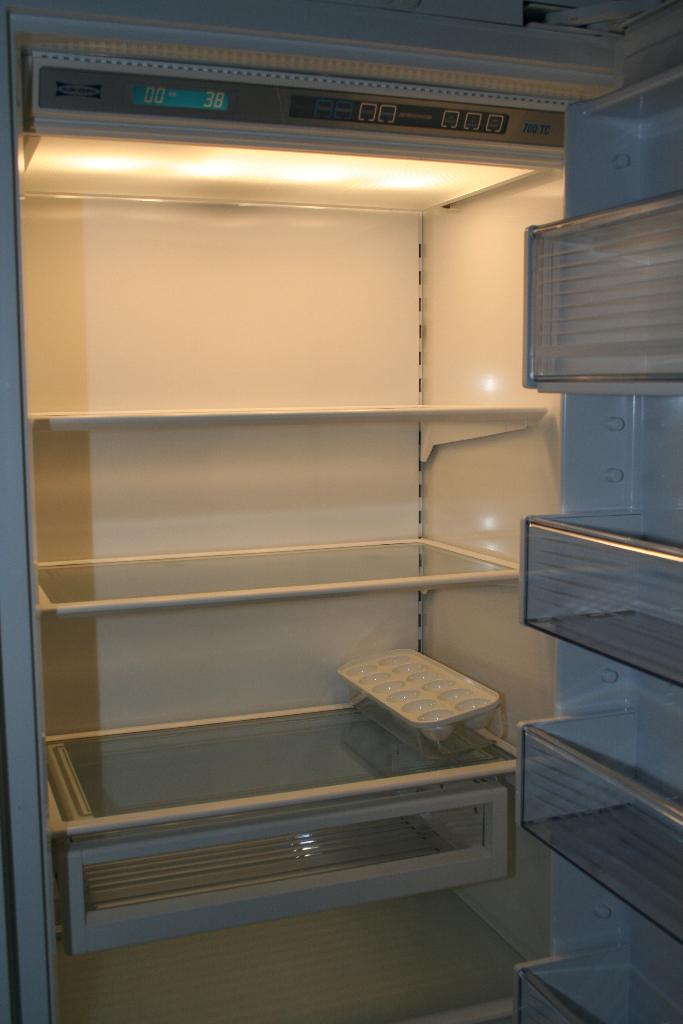refrigerator door: (572, 146, 683, 988)
